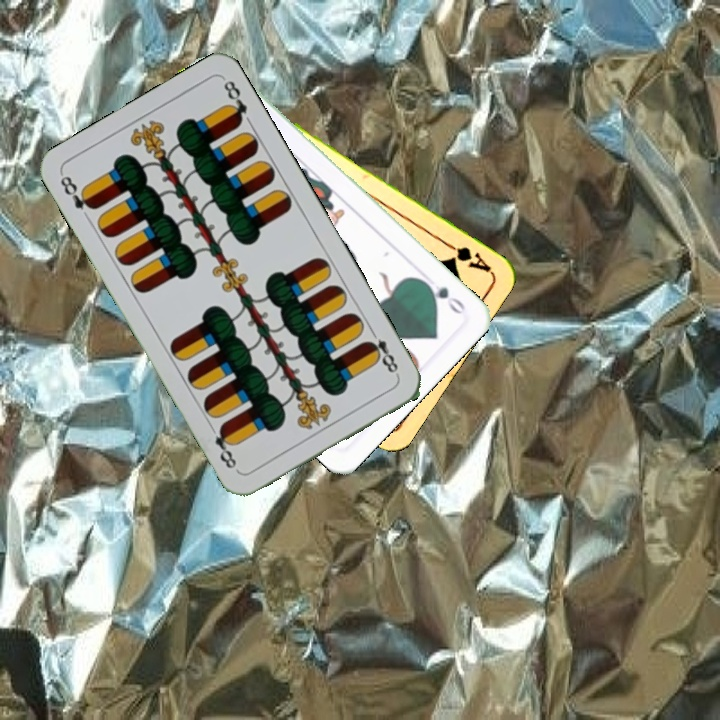E8: (362, 325, 402, 379), (56, 171, 98, 213)
GA: (440, 238, 494, 275)
GO: (418, 276, 468, 318)
